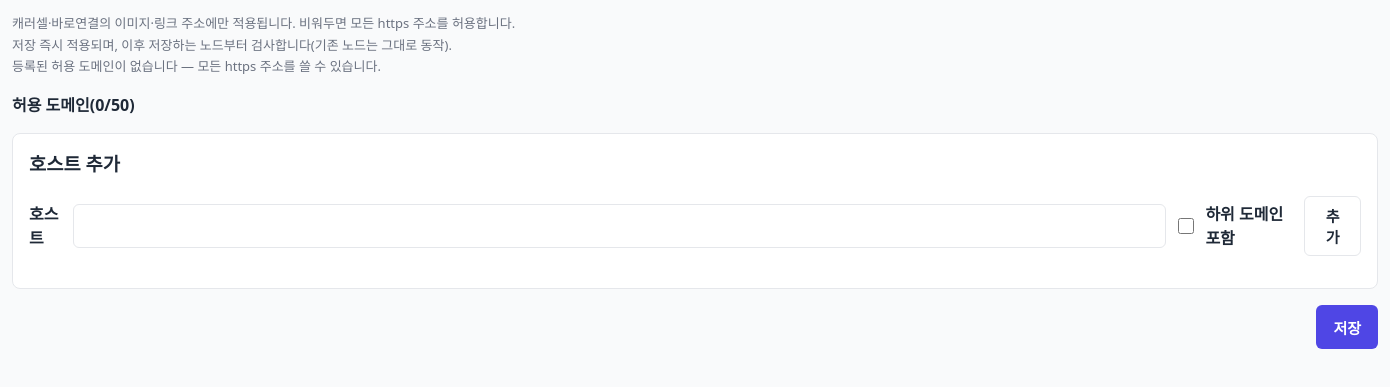
it: RichUrlPolicySection — RM-5(§3.5) › 형식이 잘못된 호스트는 인라인 오류를 보여준다
Expected: the text "등록된 허용 도메인이 없습니다 — 모든 https 주소를 쓸 수 있습니다." is shown, [12,57,381,75]
Type "https://img.example.com/path" into the field labelled "호스트" at [620, 226], box [73,204,1166,248]
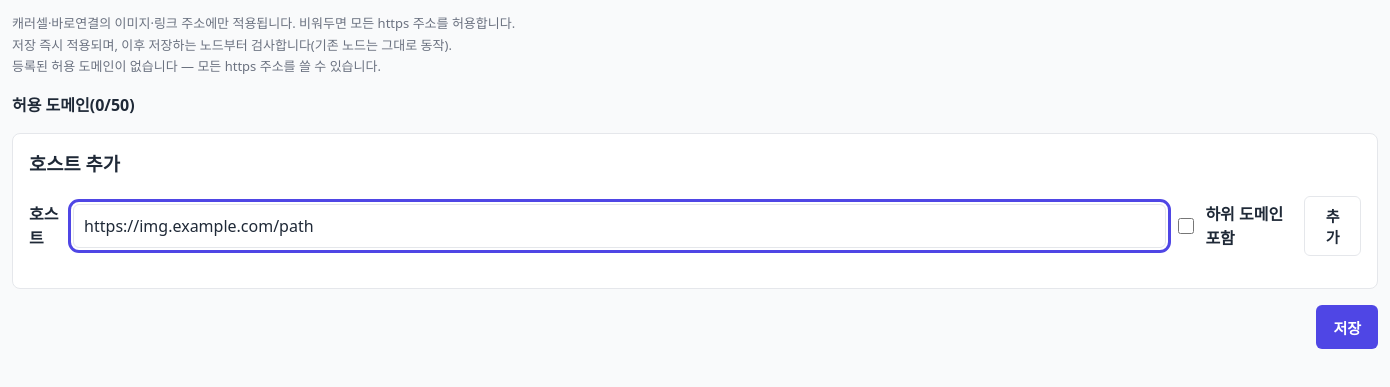
Click the button "추가" at [1333, 226], box [1304,196,1361,256]
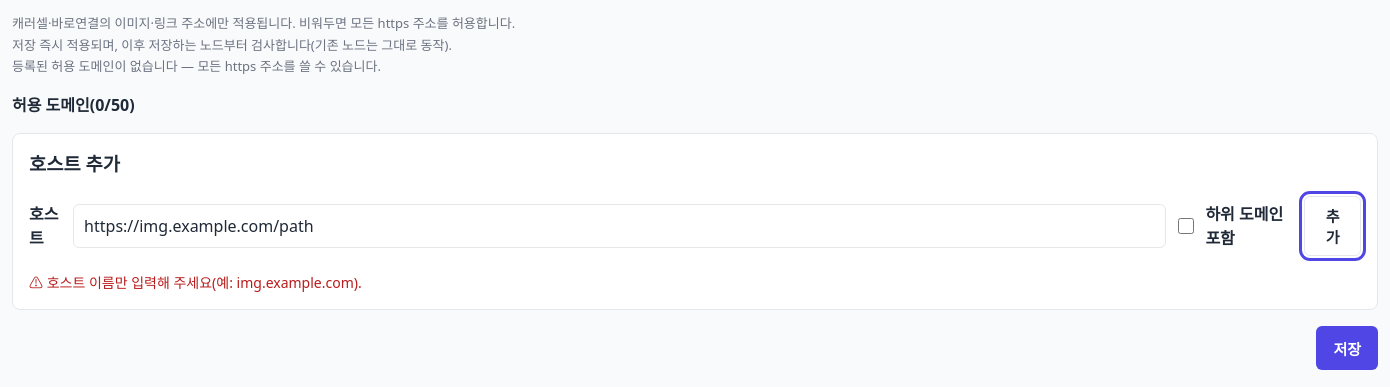
Expected: the text "호스트 이름만 입력해 주세요(예: img.example.com)." is shown, [47,273,362,292]
